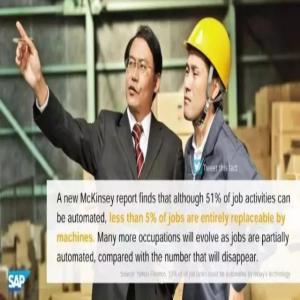none: (124, 27, 163, 117)
yellow: (183, 19, 232, 128)
